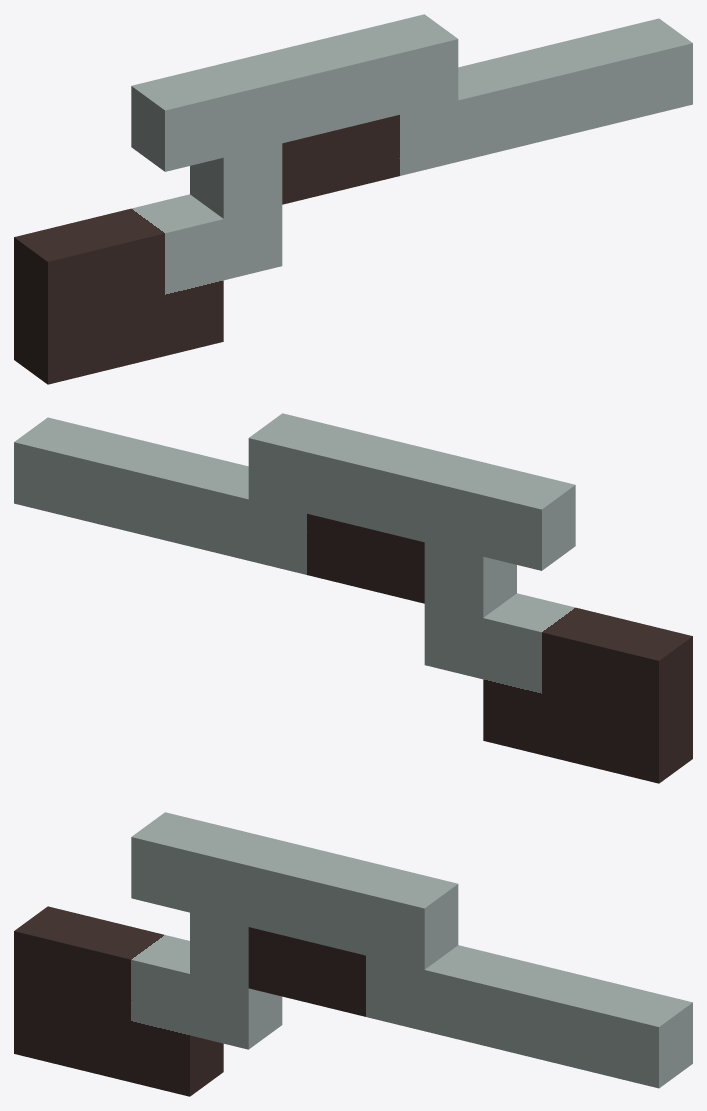
Rendered from sniper_rifle.fbx.
3 renders of one model, top to bottom at view 1: azimuth 30°, elevation 25°; view 2: azimuth 150°, elevation 25°; view 3: azimuth 330°, elevation 25°, orthographic.
Visible parts, largest first — view 1: sniper_rifle_0; view 2: sniper_rifle_0; view 3: sniper_rifle_0.
Part boxes in pixels (x1,y1,x2,y2): sniper_rifle_0: (14,14,692,384); sniper_rifle_0: (14,413,692,783); sniper_rifle_0: (14,812,692,1096).
Size of the model in its own units: 1100 by 100 by 400.
